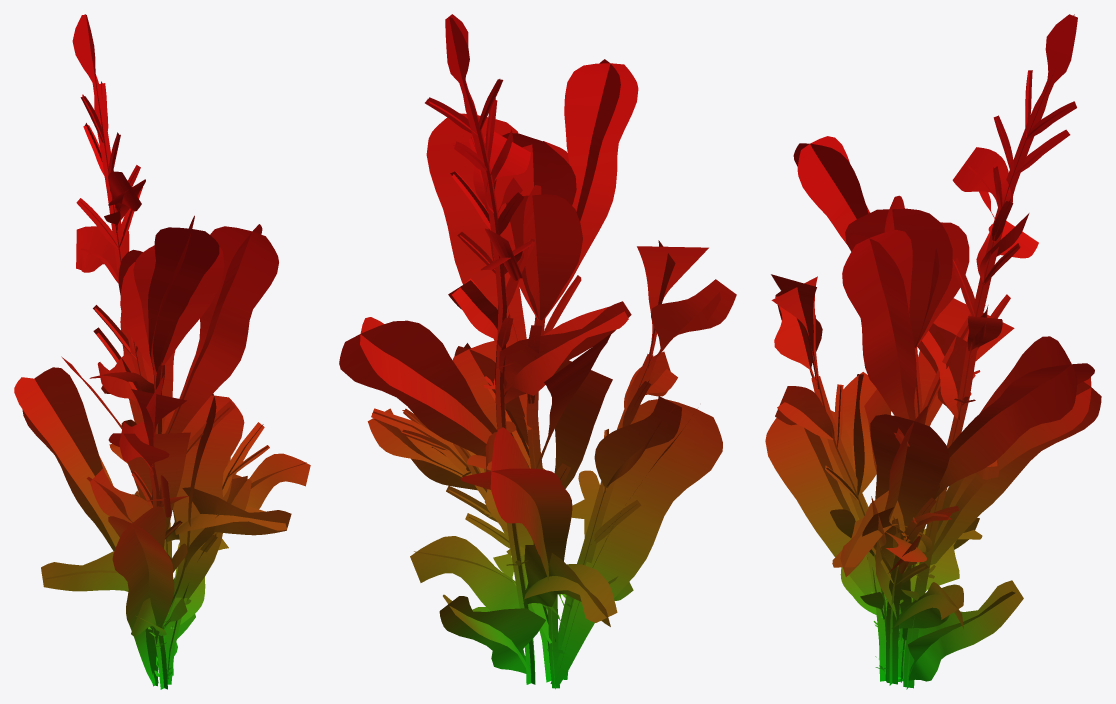
Rendered from Green Herb_LOD0_Var3_tbbpaier.fbx.
The picture shows the model from 3 angles, left to right: view 1: azimuth 30°, elevation 25°; view 2: azimuth 150°, elevation 25°; view 3: azimuth 270°, elevation 25°; orthographic projection. The views are drawn at different scales.
Visible parts, largest first — view 1: _47d1_Var3_LOD0; view 2: _47d1_Var3_LOD0; view 3: _47d1_Var3_LOD0.
Boxes of the visible parts, <box> form: _47d1_Var3_LOD0: <box>14,14,310,689</box>; _47d1_Var3_LOD0: <box>339,14,736,689</box>; _47d1_Var3_LOD0: <box>765,14,1101,689</box>.
Bounding box in the file's own units: 9.56 × 22.64 × 10.26.
